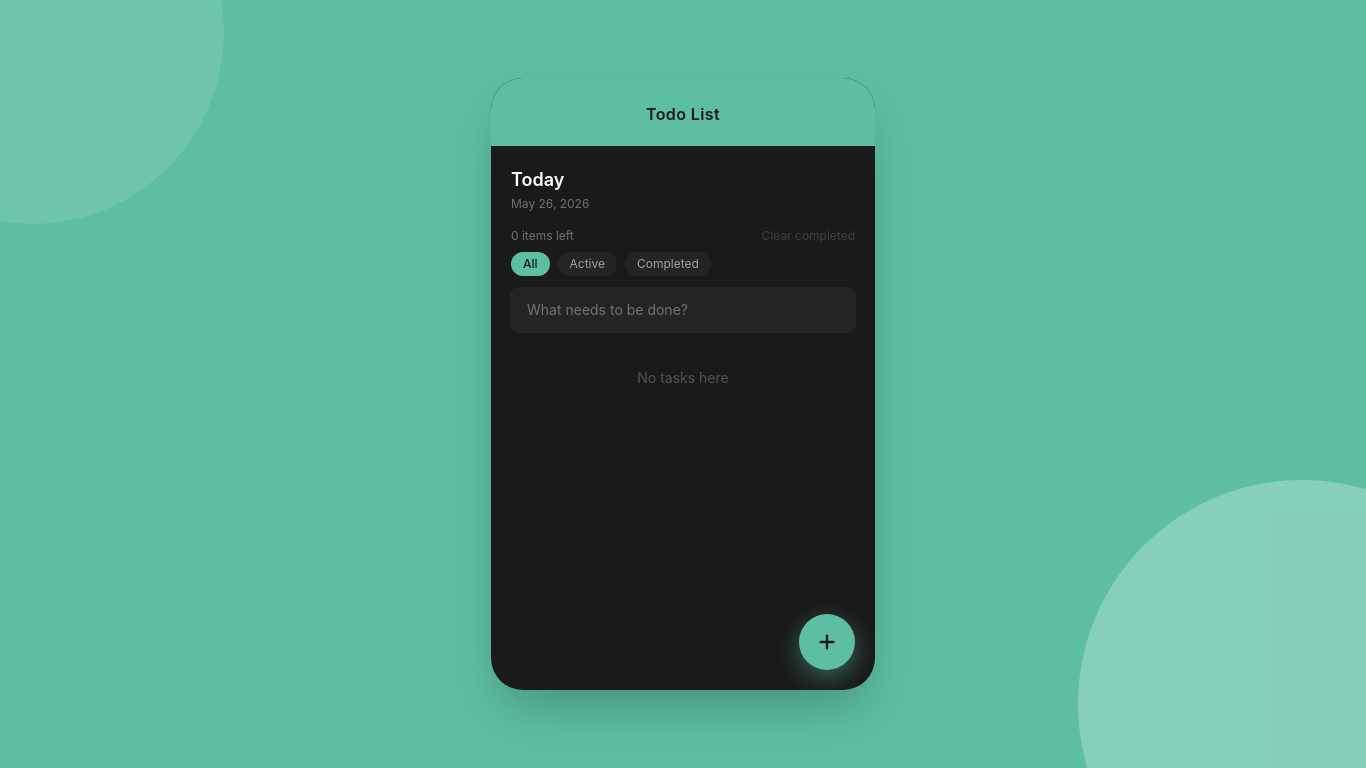
clears completed tasks
The width and height of the screenshot is (1366, 768).
In the field with placeholder "What needs to be done?": (683, 310) [527,300,839,320], type "A"
Then press Enter
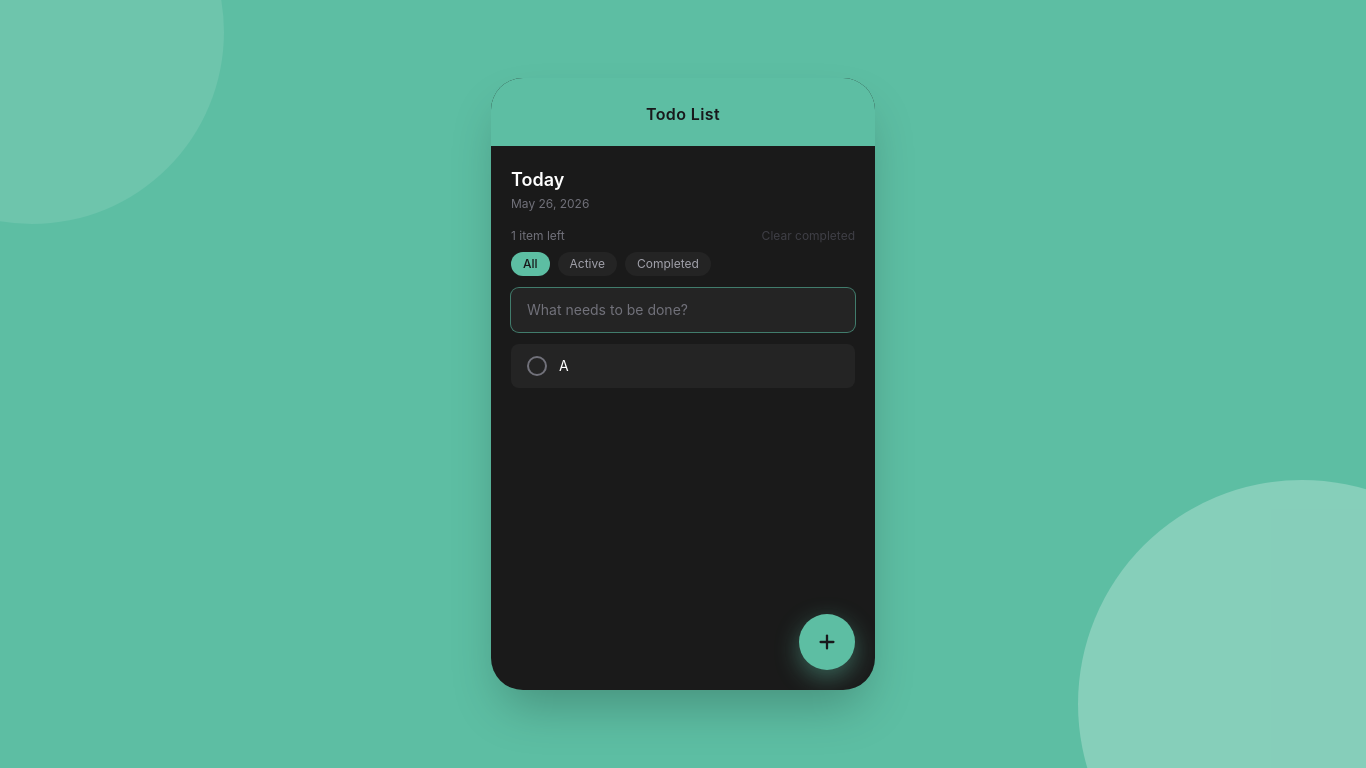
In the field with placeholder "What needs to be done?": (683, 310) [527,300,839,320], type "B"
Then press Enter
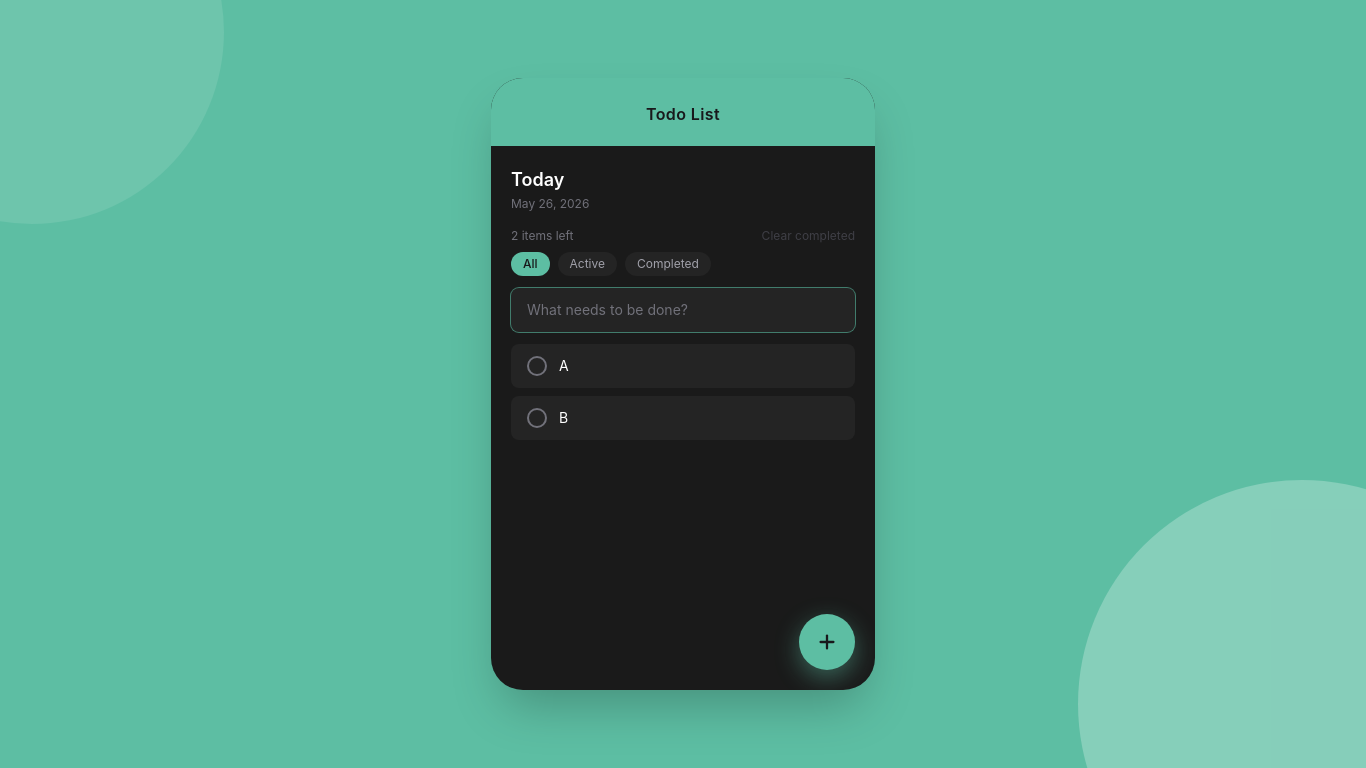
Expected: the button "Clear completed" is disabled, [762,228,855,244]
Click the 1st checkbox: click(537, 366) [527,356,547,376]
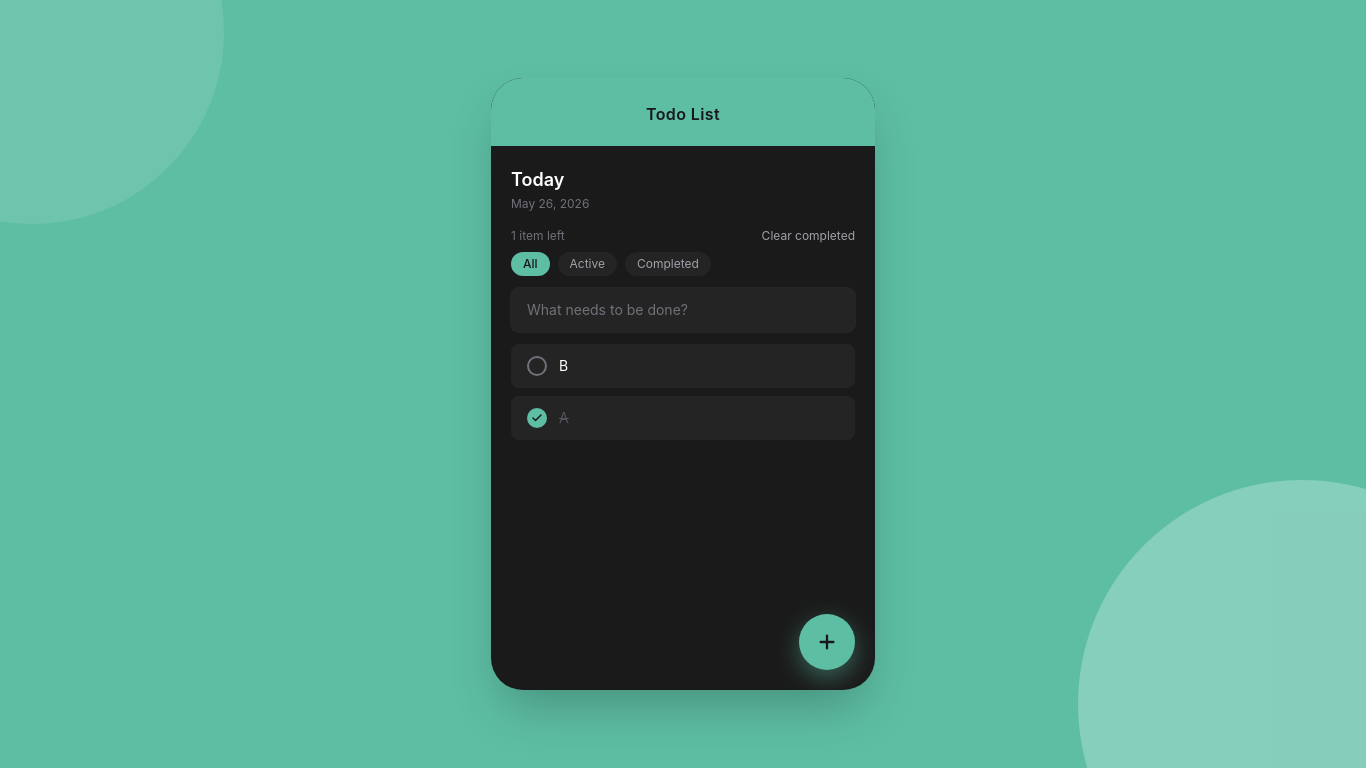
Click the 1st checkbox: click(537, 366) [527,356,547,376]
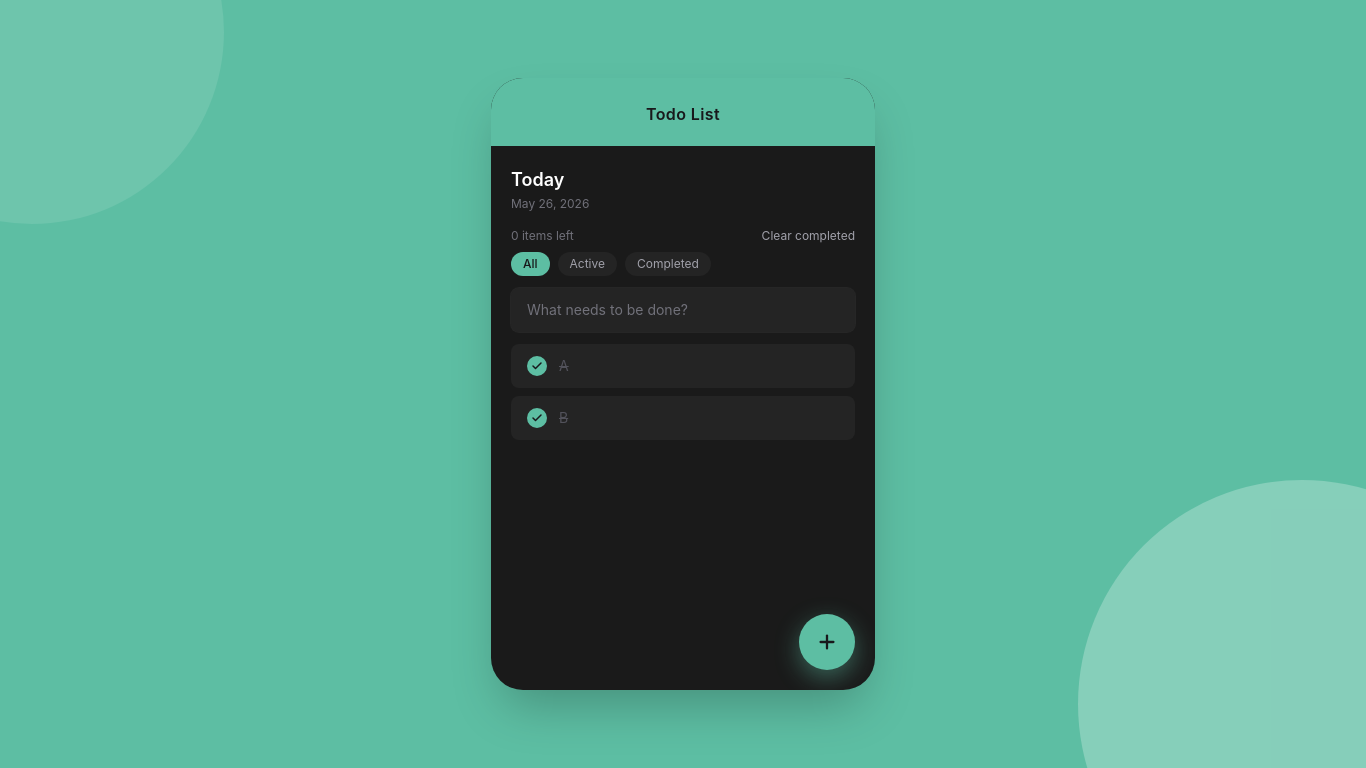
Result: the button "Clear completed" is enabled
Click the button "Clear completed": click(808, 236) [762,228,855,244]
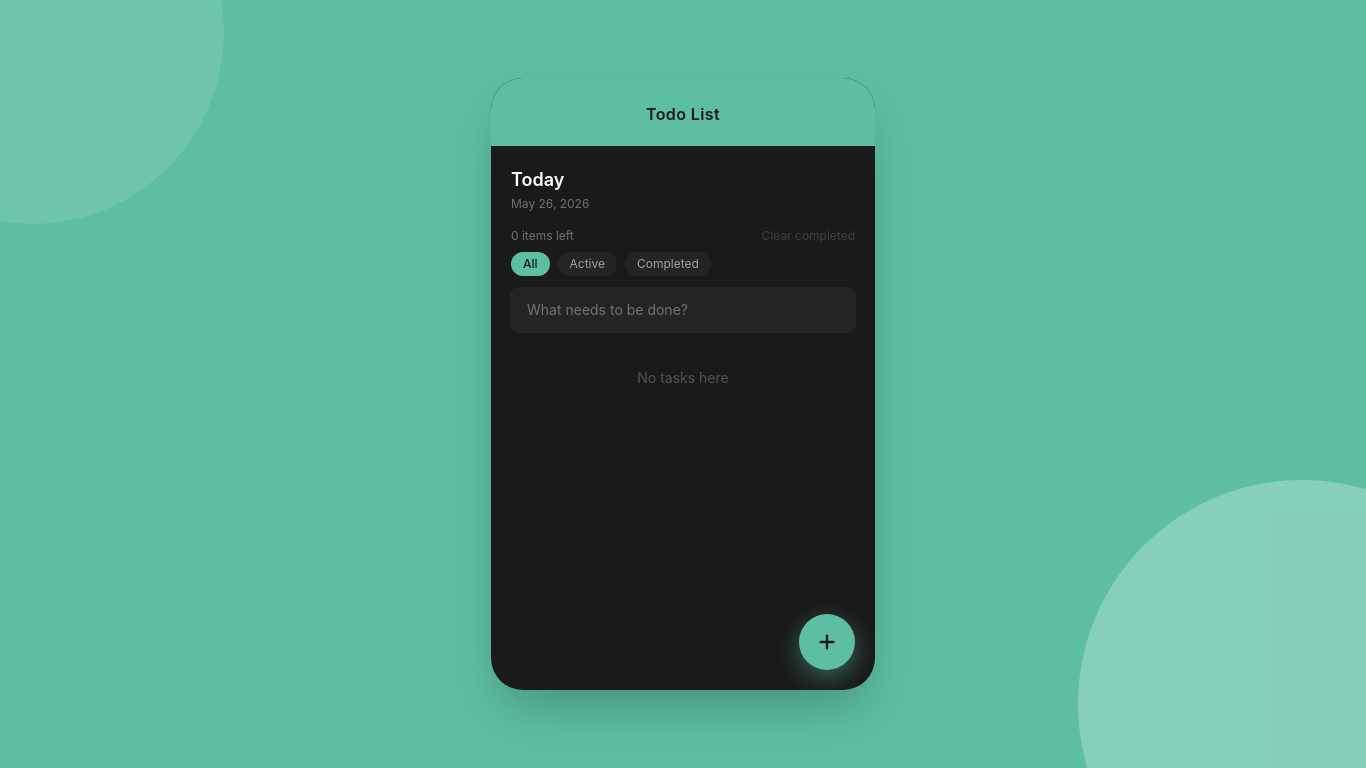
Result: the button "Clear completed" is disabled at [762,228,855,244]
